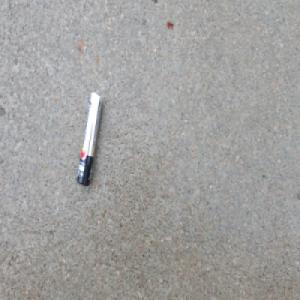Battery: (74, 89, 103, 189)
